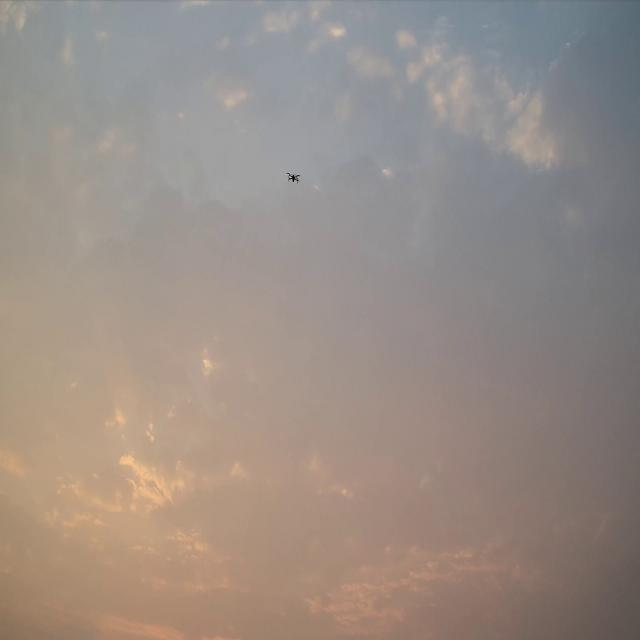drone: (286, 170, 301, 184)
